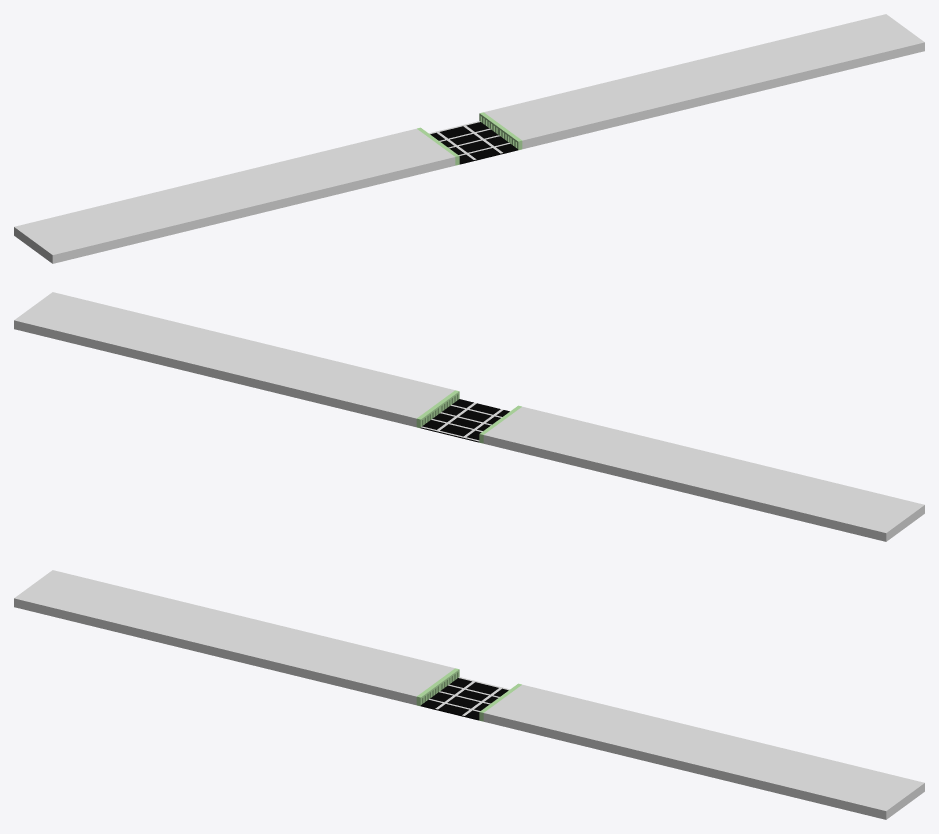
Rendered from Sci-fi_raceTrackStraight_NeonBeta2.fbx.
3 views of the same model, one above another, from view 1: azimuth 30°, elevation 25°; view 2: azimuth 150°, elevation 25°; view 3: azimuth 330°, elevation 25° (orthographic).
Visible parts, largest first — view 1: RightRoad, LeftRoad, Plane, LeftWall; view 2: RightRoad, LeftRoad, Plane, LeftWall; view 3: LeftRoad, RightRoad, Plane, RightWall.
Boxes of the visible parts, <box> form: RightRoad: <box>14,128,455,263</box>; LeftRoad: <box>484,14,924,149</box>; Plane: <box>429,121,518,164</box>; LeftWall: <box>479,112,522,150</box>; RightRoad: <box>483,406,924,541</box>; LeftRoad: <box>14,292,454,427</box>; Plane: <box>420,399,509,442</box>; LeftWall: <box>416,390,459,428</box>; LeftRoad: <box>483,684,924,819</box>; RightRoad: <box>14,570,454,705</box>; Plane: <box>420,677,509,720</box>; RightWall: <box>416,668,459,706</box>.
Bounding box in the file's own units: 13000 × 125 × 1000.
